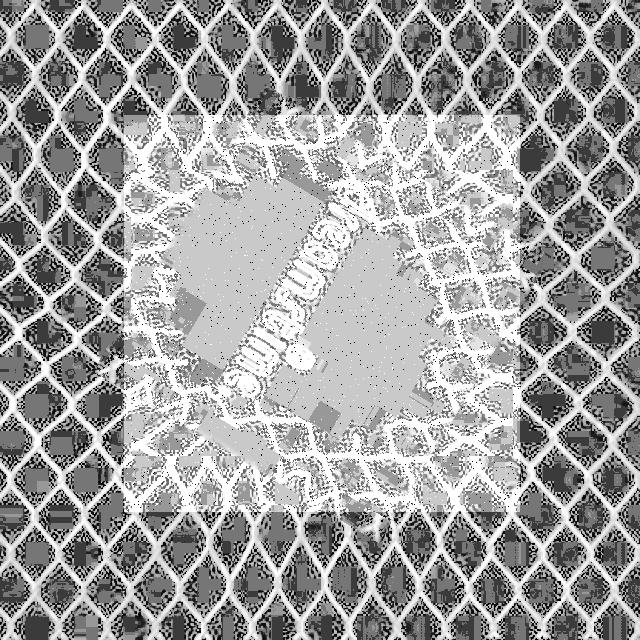anomaly-fence: (124, 115, 520, 512)
